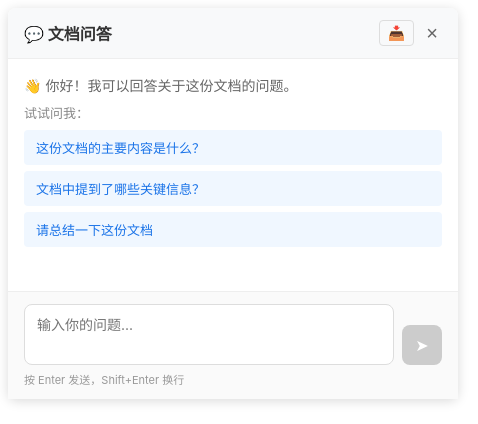
DocumentQAPanel › API Calls › should display answer in history
The image size is (478, 424).
In the text box with placeholder "输入你的问题...": (209, 335) [24,304,394,365], type "测试问题"
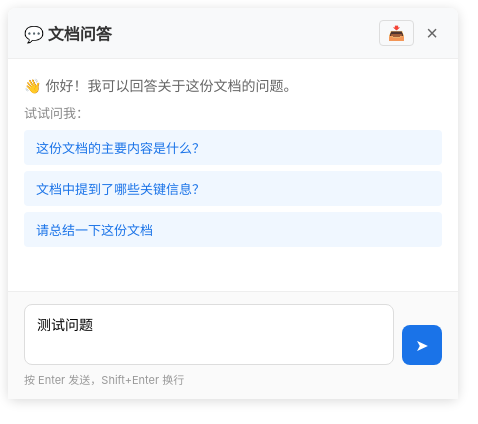
Click the button "➤": click(422, 345) [402,325,442,365]
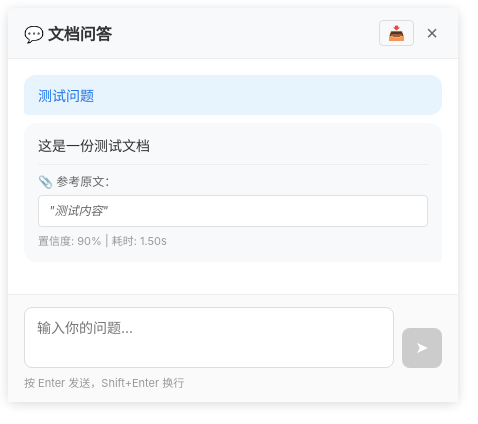
Expected: the element showing "测试问题 这是一份测试文档 📎 参考原文： \"测试内容\" 置信度: 90% | 耗时: 1.50s" is shown, [8,59,458,294]
